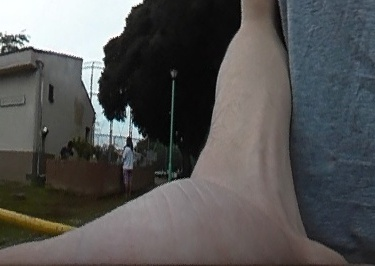person: (121, 136, 134, 190)
